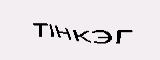І: (47, 22, 55, 39)
Г: (115, 29, 133, 45)
К: (72, 29, 92, 43)
Н: (54, 26, 73, 41)
Т: (31, 22, 47, 39)
Э: (91, 29, 112, 45)
